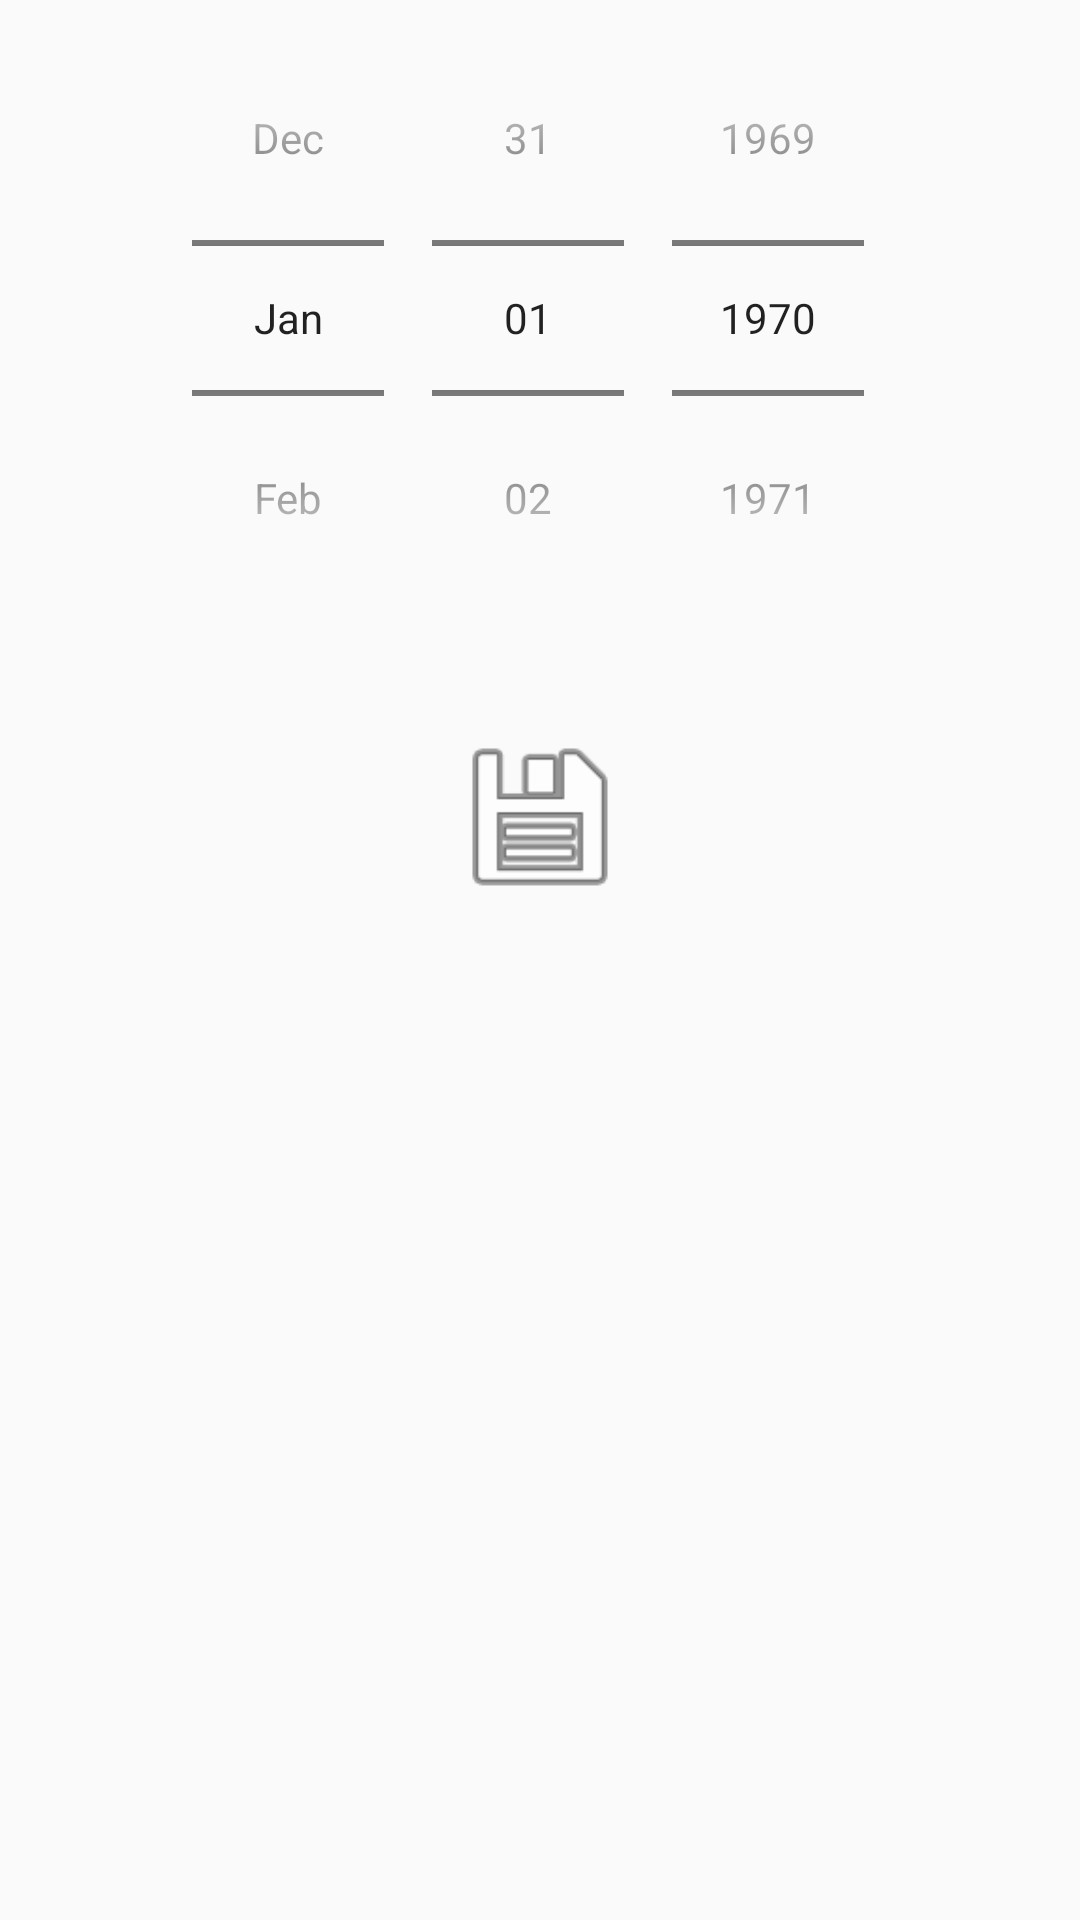

Screen size 1080w x 1920h. Icon name, then its box in pixels as (x1, y1, x2, y2):
save: (472, 748, 608, 886)
